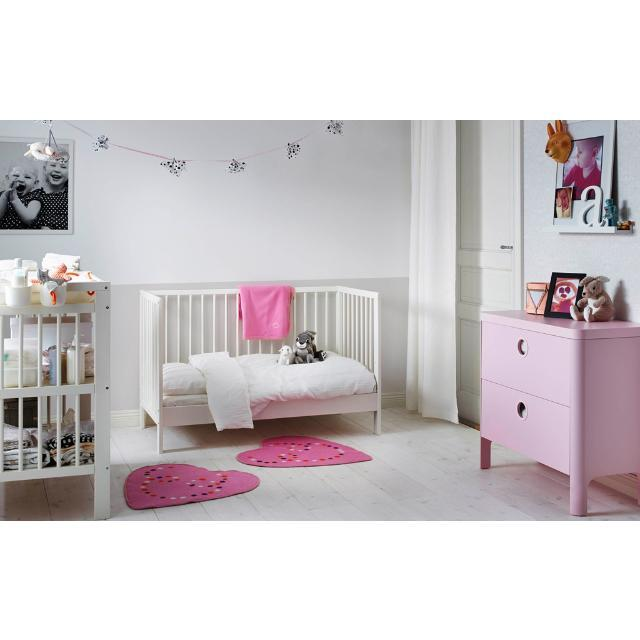curtain: (406, 119, 458, 422)
dresser: (481, 310, 640, 515)
rug: (124, 464, 260, 508), (236, 435, 371, 466)
shelf: (0, 280, 110, 519)
wall-art: (545, 119, 618, 232), (0, 135, 74, 233)
